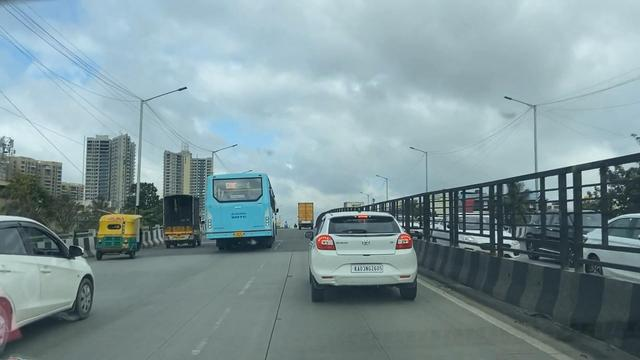HMV: (207, 165, 284, 253), (160, 188, 204, 253), (295, 199, 314, 234)
